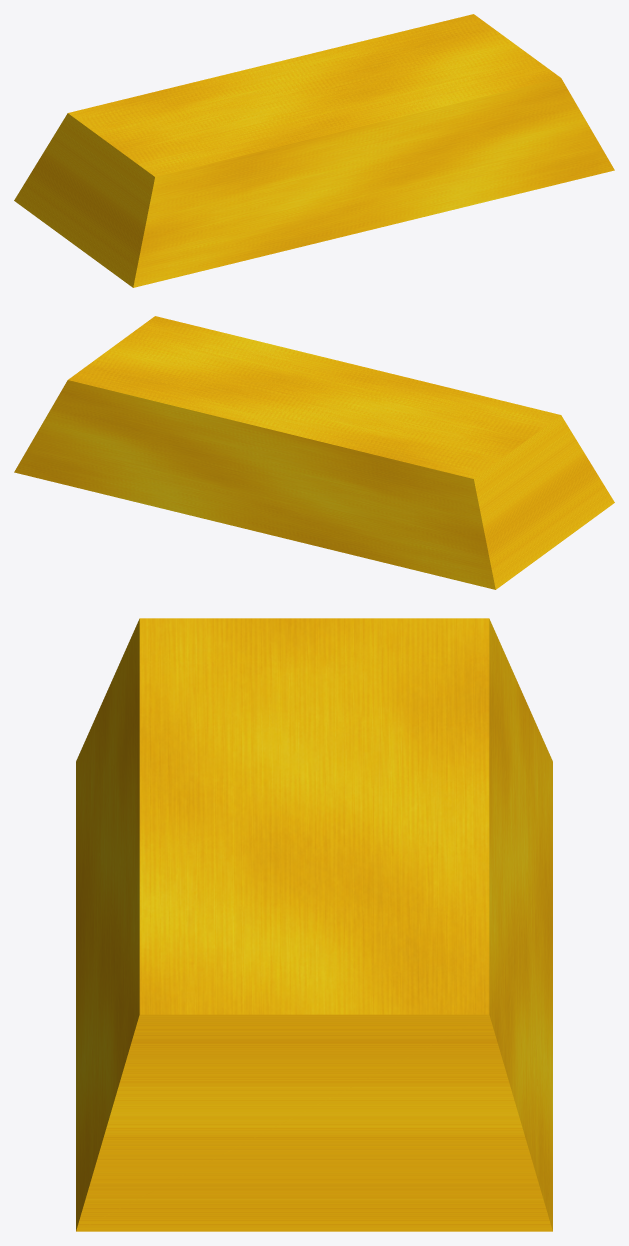
File: gold_bar-CwY4Dow9.glb
3 views of the same model, one above another, from view 1: azimuth 30°, elevation 25°; view 2: azimuth 150°, elevation 25°; view 3: azimuth 270°, elevation 25° (orthographic). The views are drawn at different scales.
Parts seen in each view (by area): view 1: HI_gold_bar; view 2: HI_gold_bar; view 3: HI_gold_bar.
Boxes of the visible parts, x1,y1,x2,y2 form: HI_gold_bar: [14, 14, 614, 287]; HI_gold_bar: [14, 316, 614, 589]; HI_gold_bar: [76, 618, 552, 1231].
Bounding box in the file's own units: 1.4 × 0.25 × 0.6.
Materials: 1 (1 with a texture image).
